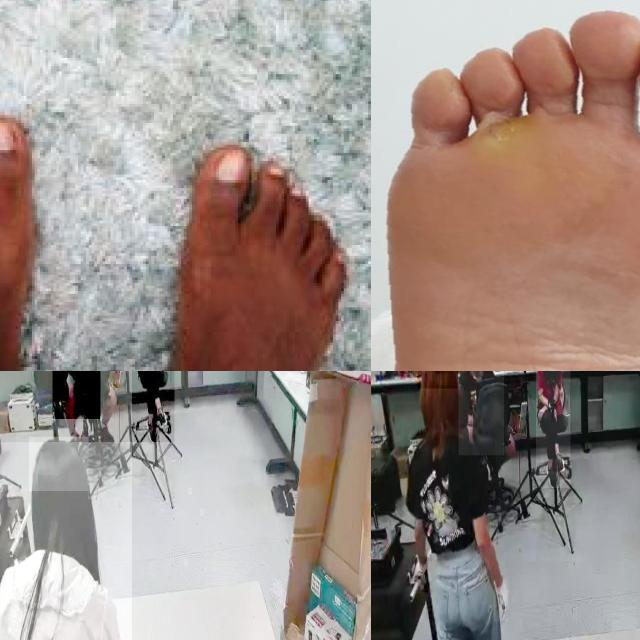Barefoots: (371, 0, 640, 371)
hand_glove: (493, 579, 509, 622), (412, 556, 429, 593)
hand_noglove: (552, 405, 558, 423), (537, 406, 543, 424)
head_nohelmet: (29, 437, 89, 492), (417, 371, 458, 389)
person: (403, 371, 506, 640), (0, 442, 132, 640), (536, 371, 571, 488), (458, 371, 503, 455), (132, 371, 175, 443), (52, 371, 101, 420)
